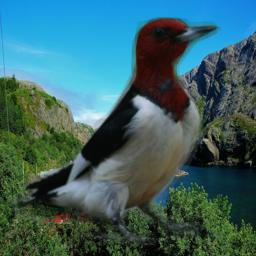Woodpecker: (11, 17, 223, 245)
